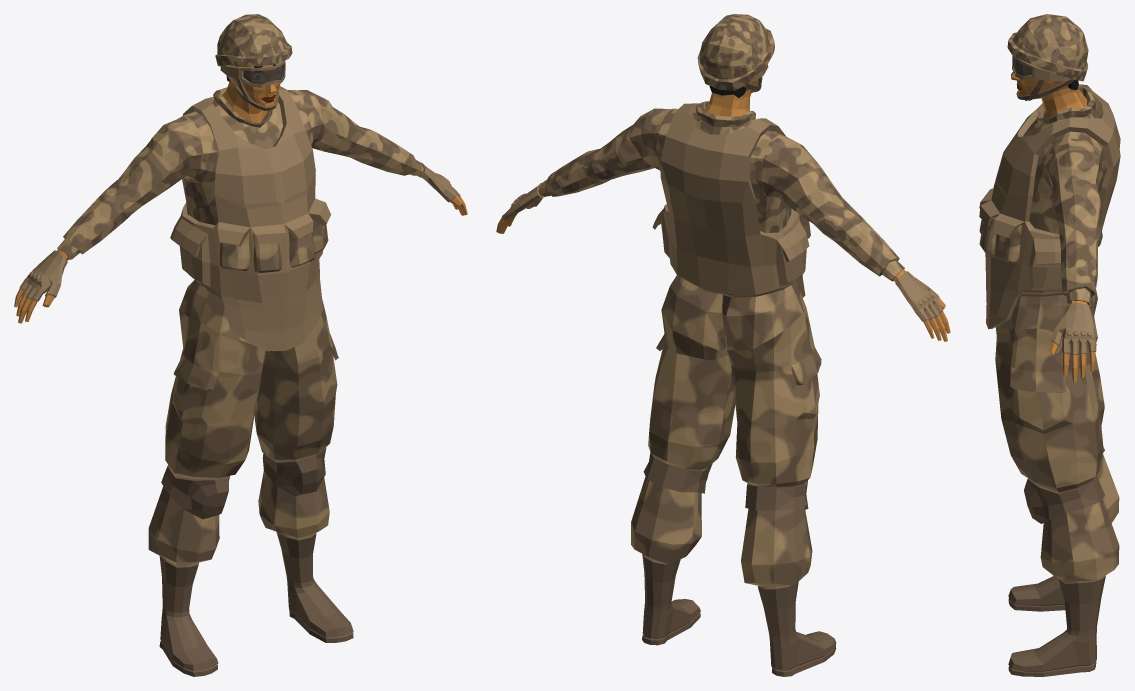
The model's file is SM_M_Soldier_M02.fbx.
The picture shows the model from 3 angles, left to right: view 1: azimuth 30°, elevation 25°; view 2: azimuth 150°, elevation 25°; view 3: azimuth 270°, elevation 25°; orthographic projection.
Visible parts, largest first — view 1: Sphere, Sphere.002, Sphere.001; view 2: Sphere, Sphere.002; view 3: Sphere, Sphere.002, Sphere.001.
Boxes of the visible parts, x1,y1,x2,y2 form: Sphere: (14, 64, 467, 676); Sphere.002: (215, 14, 292, 110); Sphere.001: (220, 60, 285, 87); Sphere: (496, 79, 950, 676); Sphere.002: (697, 14, 774, 92); Sphere: (979, 61, 1120, 676); Sphere.002: (1007, 14, 1088, 100); Sphere.001: (1012, 56, 1071, 81).
Size of the model in its own units: 129 by 172 by 35.66.
